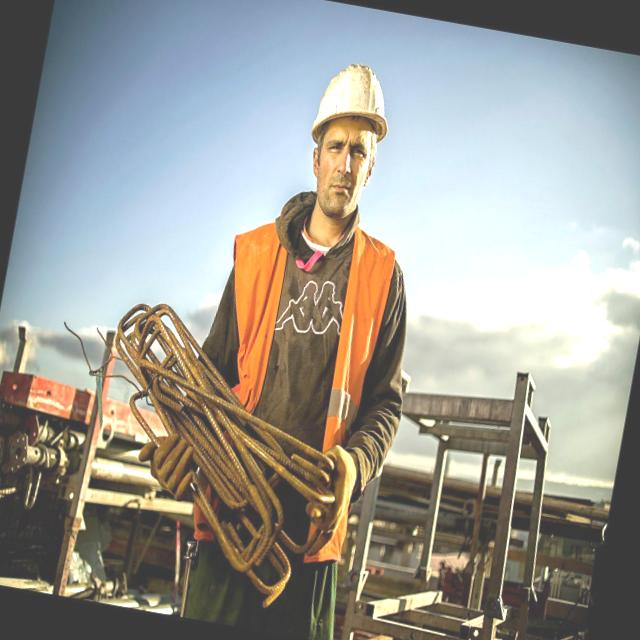helmet: (314, 55, 396, 134)
